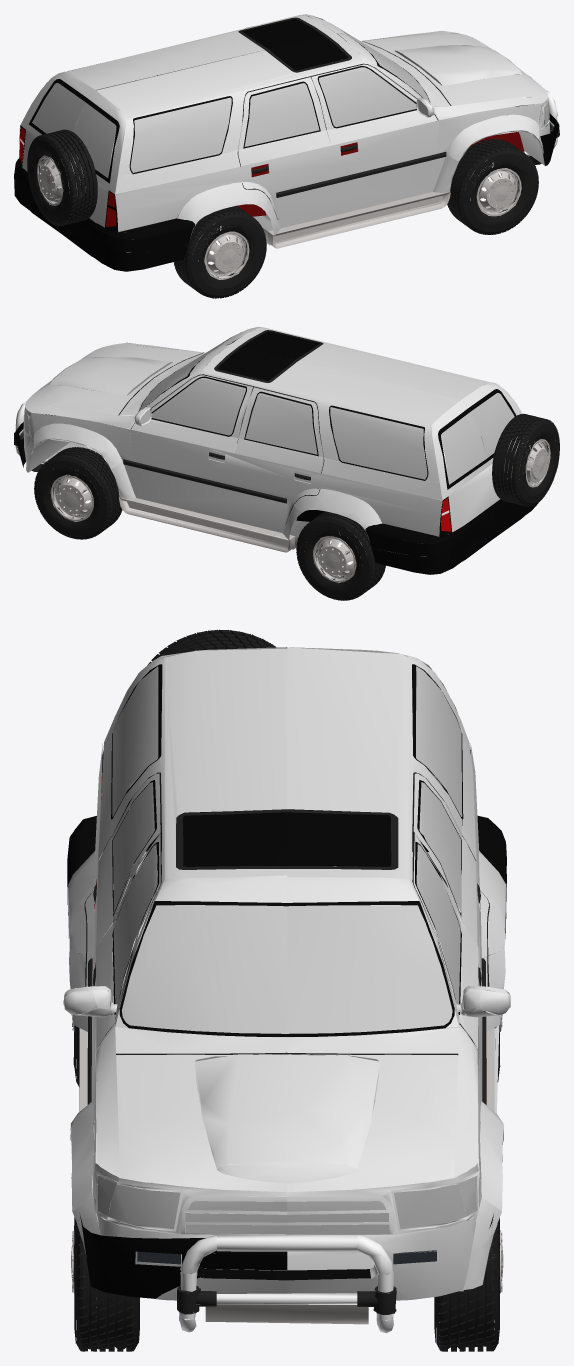
Rendered from v_hilux.glb.
The picture shows the model from 3 angles, top to bottom: view 1: azimuth 30°, elevation 25°; view 2: azimuth 150°, elevation 25°; view 3: azimuth 270°, elevation 25°; orthographic projection. The views are drawn at different scales.
Parts seen in each view (by area): view 1: v_hilux; view 2: v_hilux; view 3: v_hilux.
Boxes of the visible parts, box(x1,y1,x2,y2) form: v_hilux: box(14, 14, 559, 298); v_hilux: box(14, 327, 559, 600); v_hilux: box(63, 629, 510, 1351).
Size of the model in its own units: 5.33 by 1.92 by 2.13.
Materials: 1 (1 with a texture image).
